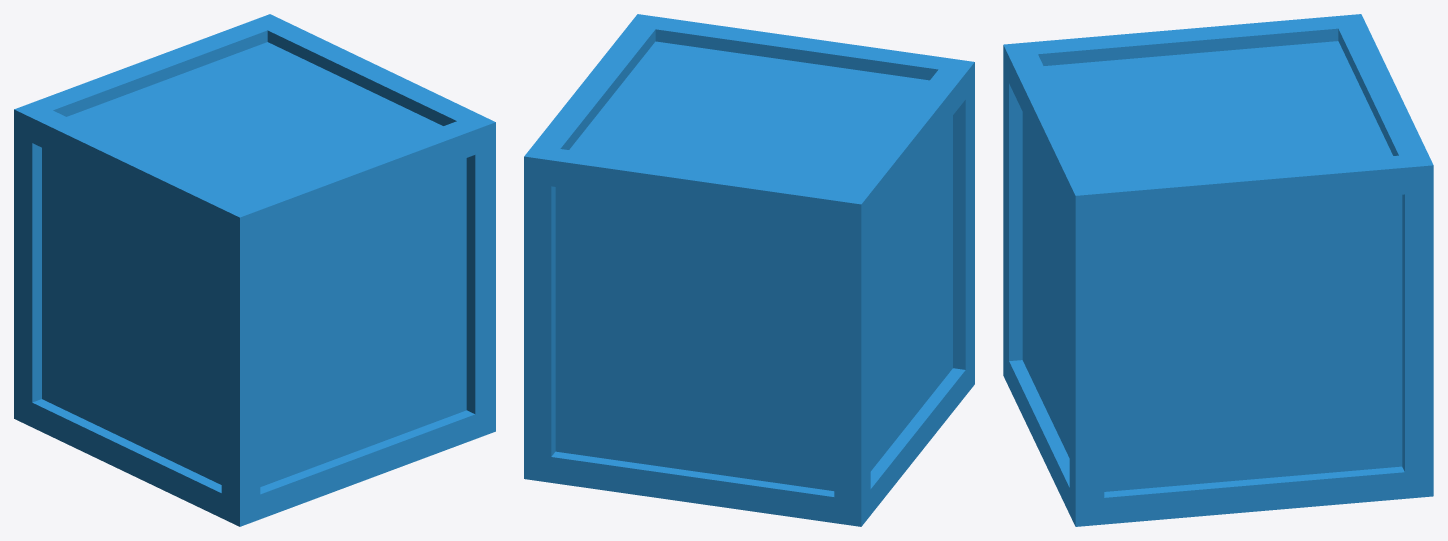
The model's file is TeleaportBox_01 (4).fbx.
3 renders of one model, left to right at view 1: azimuth 30°, elevation 25°; view 2: azimuth 150°, elevation 25°; view 3: azimuth 270°, elevation 25°, orthographic. The views are drawn at different scales.
Parts seen in each view (by area): view 1: GameObject; view 2: GameObject; view 3: GameObject.
Boxes of the visible parts, box(x1,y1,x2,y2) form: GameObject: box(14, 14, 495, 526); GameObject: box(524, 14, 974, 526); GameObject: box(1003, 14, 1433, 526).
Size of the model in its own units: 256 by 217 by 256.
